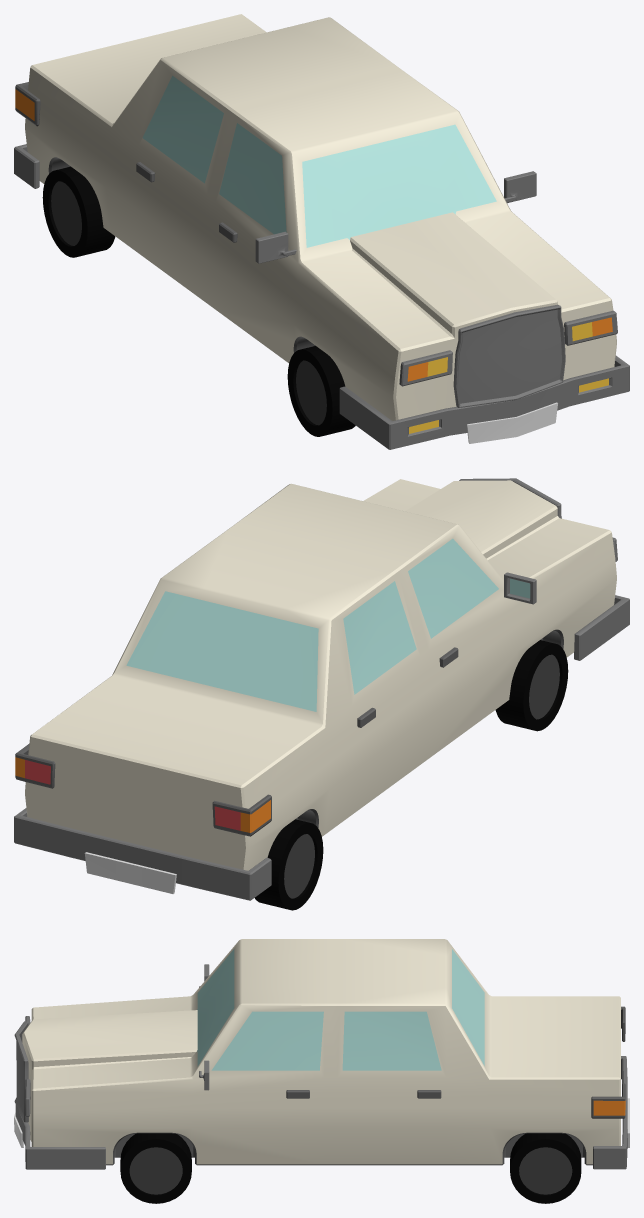
File: wBart.fbx
3 views of the same model, one above another, from view 1: azimuth 30°, elevation 25°; view 2: azimuth 150°, elevation 25°; view 3: azimuth 270°, elevation 25° (orthographic). The views are drawn at different scales.
Visible parts, largest first — view 1: whiteranger; view 2: whiteranger; view 3: whiteranger.
Part boxes in pixels (box(x1,y1,x2,y2)): whiteranger: box(14, 14, 629, 449); whiteranger: box(14, 478, 629, 910); whiteranger: box(14, 939, 629, 1203).
Size of the model in its own units: 264 by 213 by 636.
